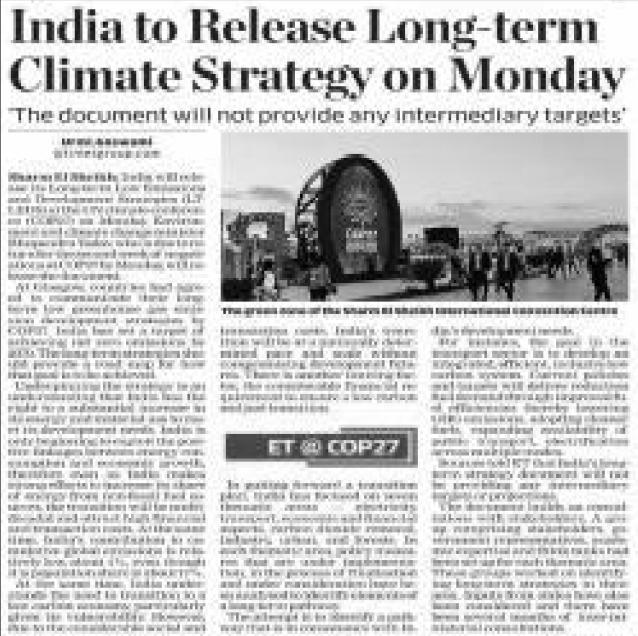paper: (1, 0, 638, 635)
